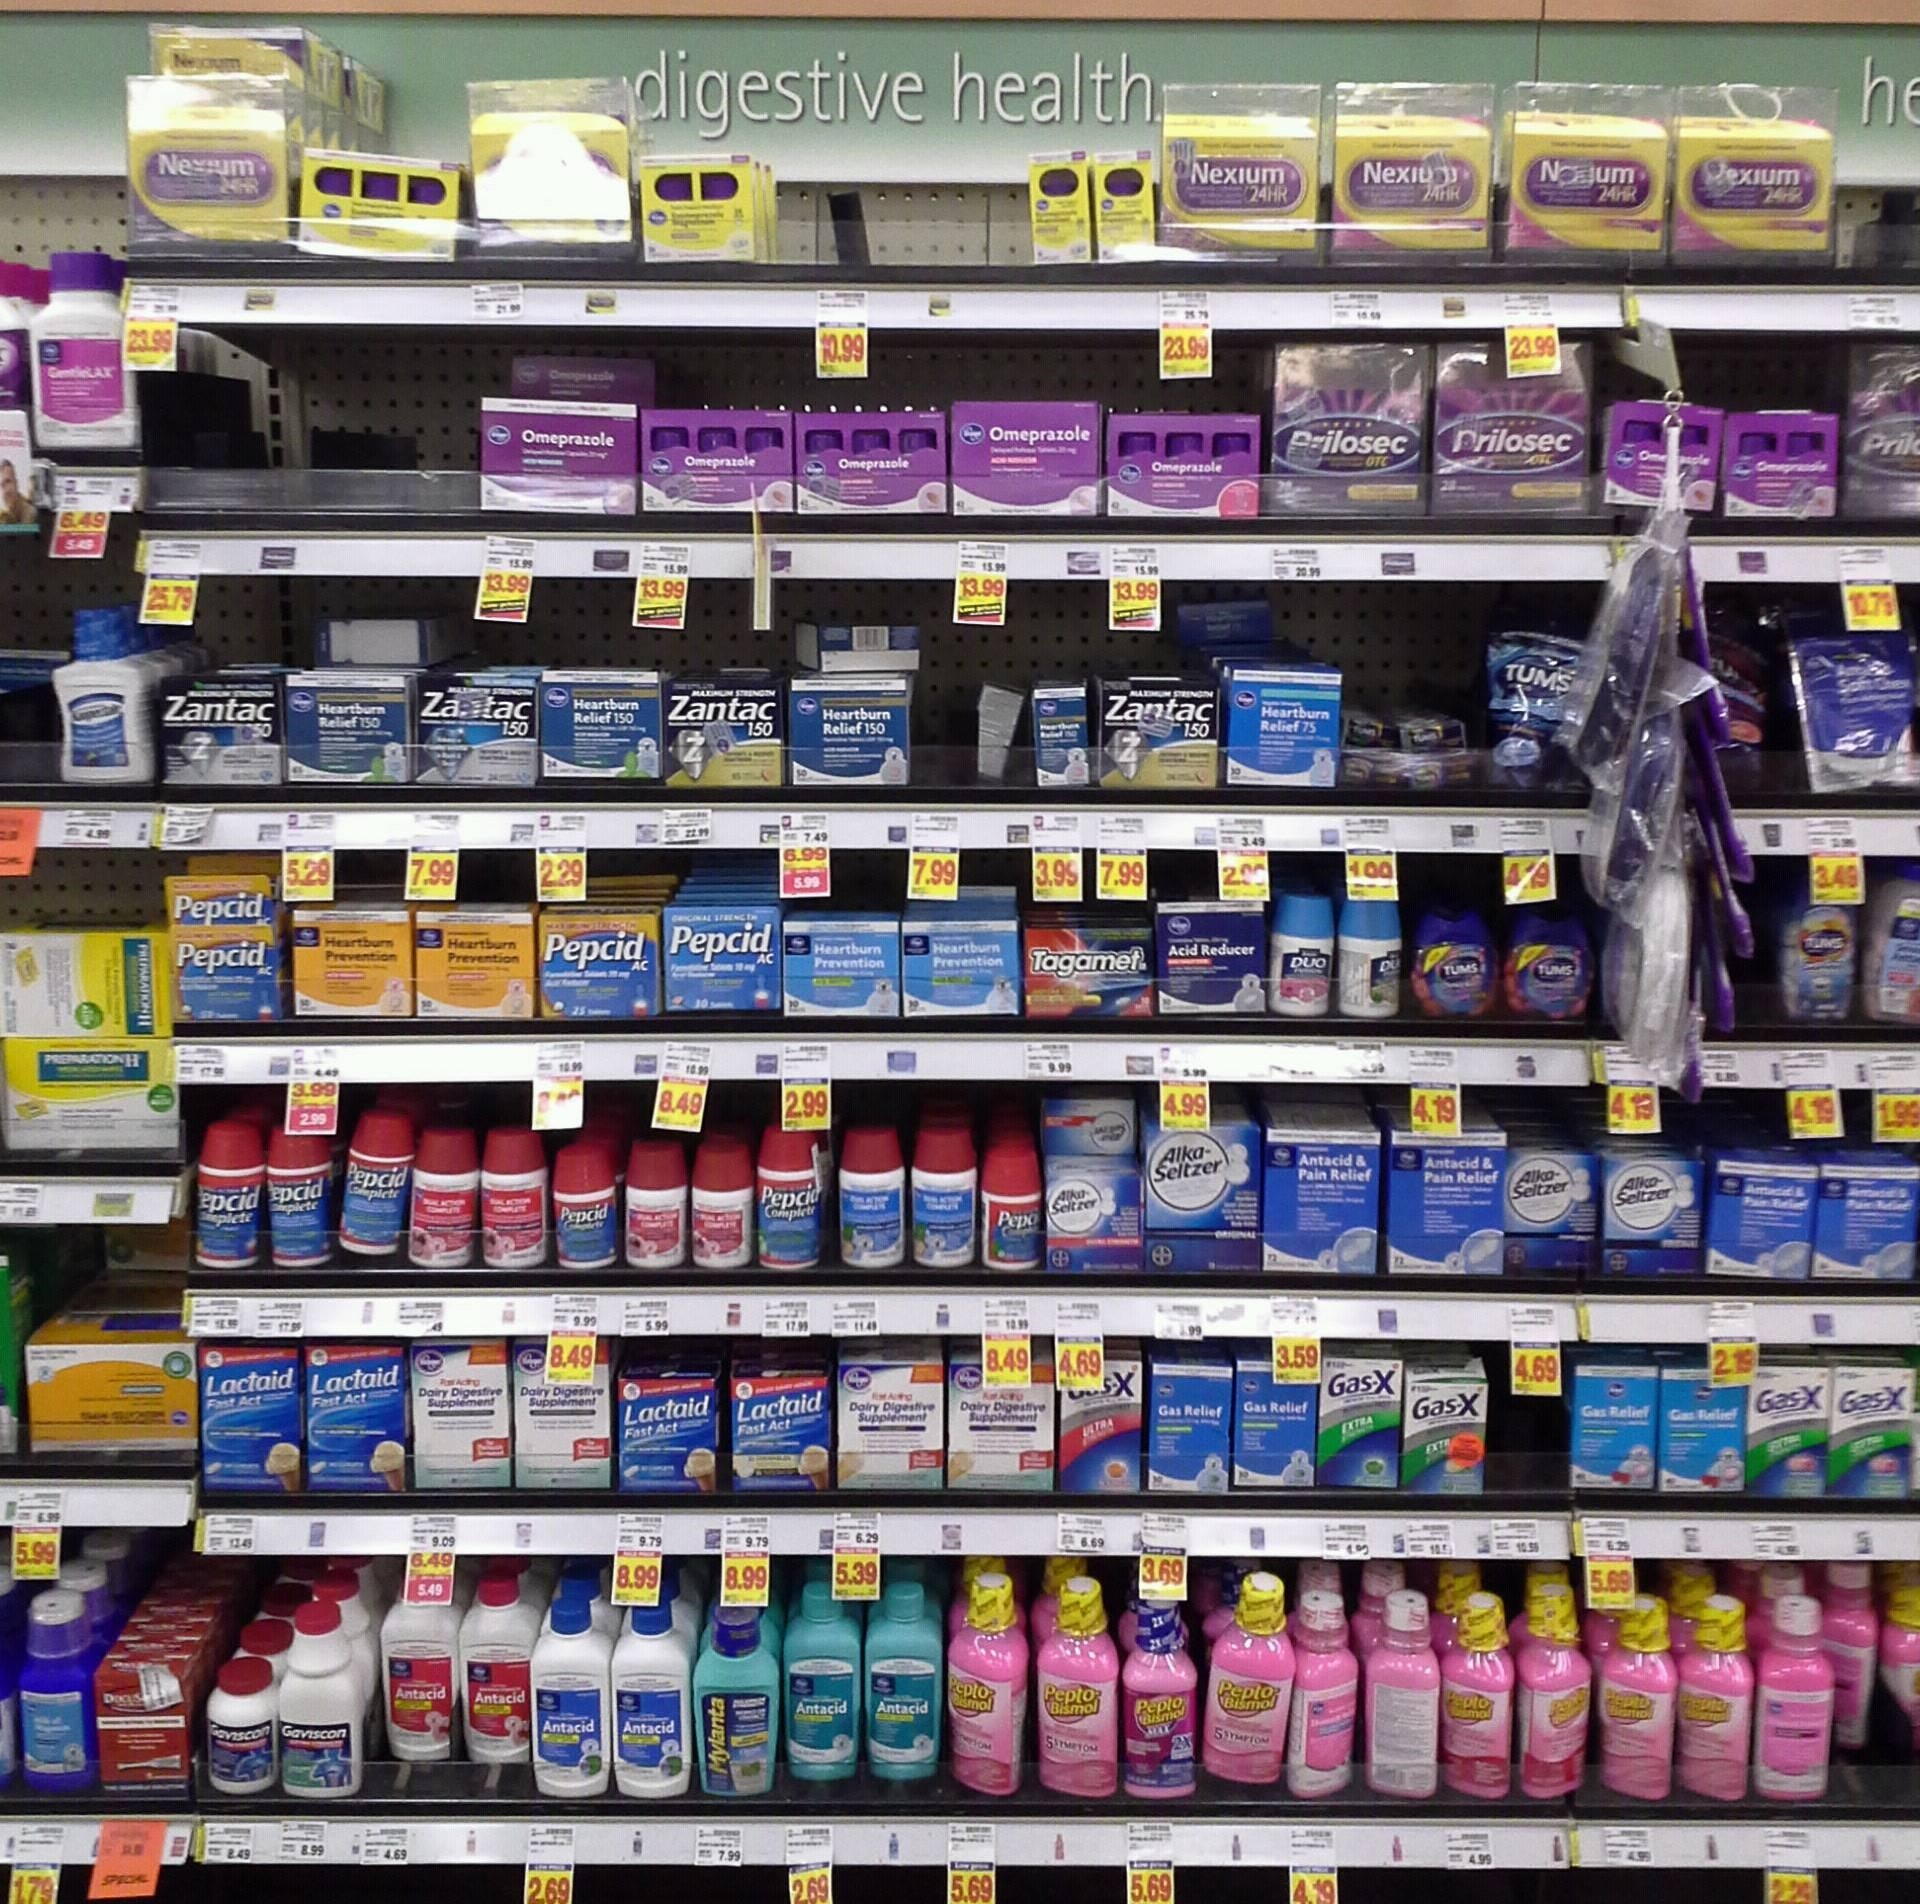empty: (269, 359, 474, 506), (778, 153, 1025, 263), (928, 628, 1020, 778), (1500, 1355, 1557, 1501)
misalignment: (337, 1118, 1038, 1275), (940, 1574, 1038, 1810)
